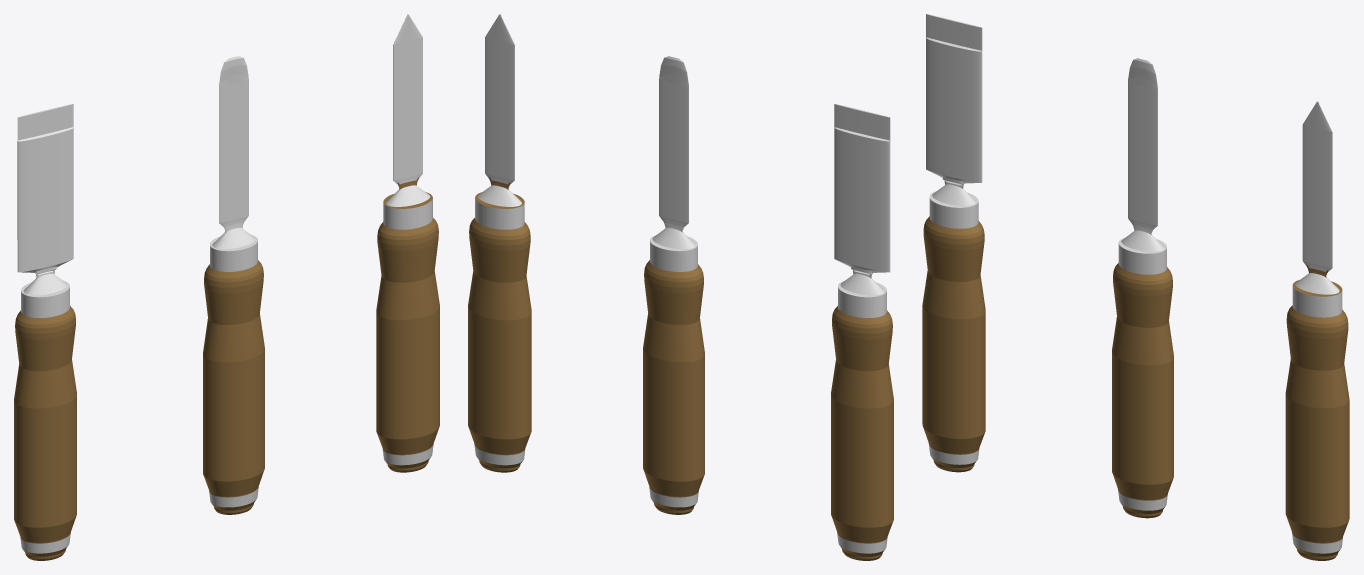
Rendered from blades2.fbx.
3 renders of one model, left to right at view 1: azimuth 30°, elevation 25°; view 2: azimuth 150°, elevation 25°; view 3: azimuth 330°, elevation 25°, orthographic.
Visible parts, largest first — view 1: Cylinder.002, Cylinder, Cylinder.001; view 2: Cylinder.002, Cylinder, Cylinder.001; view 3: Cylinder.002, Cylinder, Cylinder.001.
Boxes of the visible parts, x1,y1,x2,y2 form: Cylinder.002: [14, 104, 76, 560]; Cylinder: [376, 14, 439, 472]; Cylinder.001: [203, 56, 264, 514]; Cylinder.002: [831, 104, 893, 560]; Cylinder: [468, 14, 531, 472]; Cylinder.001: [643, 56, 704, 514]; Cylinder.002: [922, 14, 985, 472]; Cylinder: [1285, 101, 1349, 560]; Cylinder.001: [1112, 58, 1173, 518].
Bounding box in the file's own units: 408 × 419 × 42.85.
